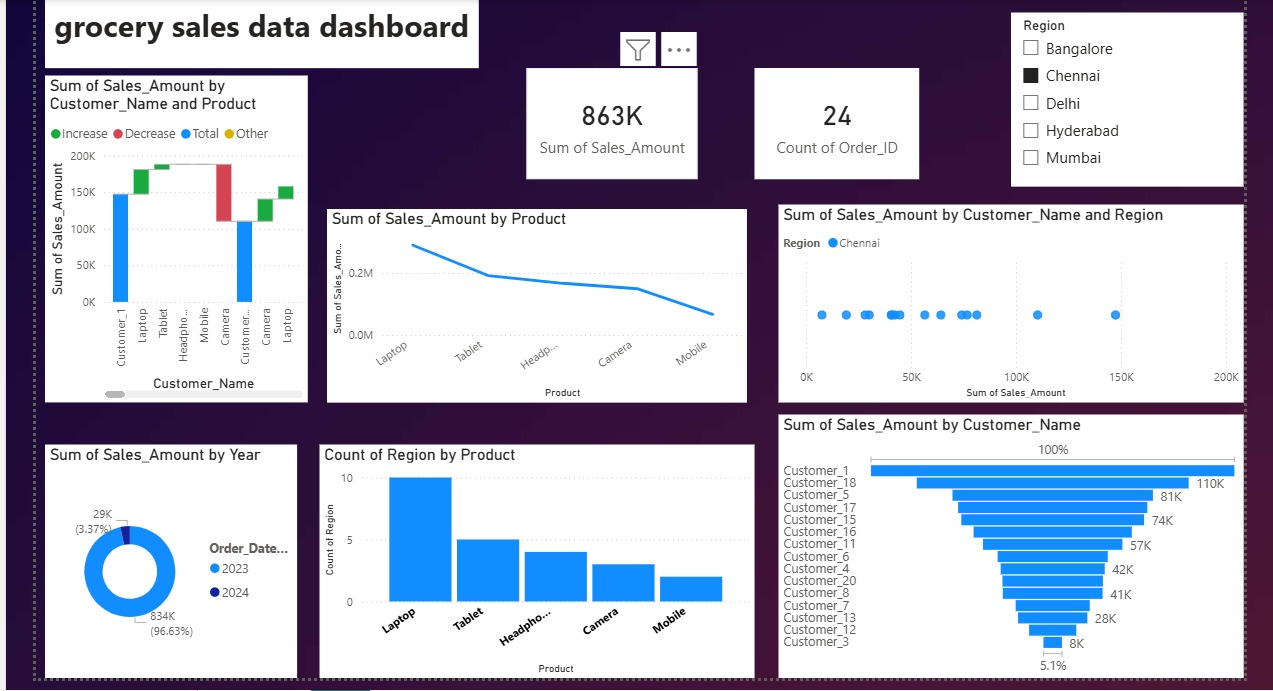

The dashboard page shown, as its layout file describes it:
{"tool":"powerbi","page":{"name":"Page 1","canvas":[1280,720],"ordinal":0},"visuals":[{"type":"textbox","box":[9.5,0,459.7,73.2],"z":0},{"type":"columnChart","fields":{"Category":["sample_sales_data.Product"],"Y":["CountNonNull(sample_sales_data.Region)"]},"box":[300.6,472.4,461.3,248.1],"z":1000},{"type":"lineChart","fields":{"Y":["Sum(sample_sales_data.Sales_Amount)"],"Category":["sample_sales_data.Product"]},"box":[308.6,222.7,445.4,205.2],"z":2000},{"type":"scatterChart","fields":{"Category":["sample_sales_data.Customer_Name"],"X":["Sum(sample_sales_data.Sales_Amount)"],"Series":["sample_sales_data.Region"]},"box":[787.4,217.9,493.1,210],"z":3000},{"type":"funnel","fields":{"Category":["sample_sales_data.Customer_Name","sample_sales_data.Region","sample_sales_data.Product"],"Y":["Sum(sample_sales_data.Sales_Amount)"]},"box":[787.4,440.6,493.1,279.9],"z":4000},{"type":"donutChart","fields":{"Category":["sample_sales_data.Order_Date.Variation.Date Hierarchy.Year","sample_sales_data.Order_Date.Variation.Date Hierarchy.Quarter","sample_sales_data.Order_Date.Variation.Date Hierarchy.Month","sample_sales_data.Order_Date.Variation.Date Hierarchy.Day","sample_sales_data.Region"],"Y":["Sum(sample_sales_data.Sales_Amount)"]},"box":[9.5,472.4,267.2,248.1],"z":5000},{"type":"slicer","fields":{"Values":["sample_sales_data.Region"]},"box":[1033.9,14.3,246.5,184.5],"z":6000},{"type":"waterfallChart","fields":{"Category":["sample_sales_data.Customer_Name"],"Breakdown":["sample_sales_data.Product"],"Y":["Sum(sample_sales_data.Sales_Amount)"]},"box":[9.5,81.1,278.4,346.8],"z":7000},{"type":"card","fields":{"Values":["Sum(sample_sales_data.Sales_Amount)"]},"box":[520.1,73.2,181.3,117.7],"z":8000},{"type":"card","fields":{"Values":["CountNonNull(sample_sales_data.Order_ID)"]},"box":[761.9,73.2,175,117.7],"z":9000}]}

Visuals, with their boxes in screenshot pixels (x1, y1, x2, y2):
textbox: BBox(42, 0, 476, 63)
columnChart - sample_sales_data.Product x CountNonNull(sample_sales_data.Region): BBox(317, 440, 753, 674)
lineChart - Sum(sample_sales_data.Sales_Amount) x sample_sales_data.Product: BBox(325, 204, 745, 398)
scatterChart - sample_sales_data.Customer_Name x Sum(sample_sales_data.Sales_Amount): BBox(777, 199, 1243, 398)
funnel - sample_sales_data.Customer_Name x sample_sales_data.Region: BBox(777, 409, 1243, 674)
donutChart - sample_sales_data.Order_Date.Variation.Date Hierarchy.Year x sample_sales_data.Order_Date.Variation.Date Hierarchy.Quarter: BBox(42, 440, 294, 674)
slicer - sample_sales_data.Region: BBox(1010, 7, 1242, 181)
waterfallChart - sample_sales_data.Customer_Name x sample_sales_data.Product: BBox(42, 70, 305, 398)
card - Sum(sample_sales_data.Sales_Amount): BBox(524, 63, 696, 174)
card - CountNonNull(sample_sales_data.Order_ID): BBox(753, 63, 918, 174)
